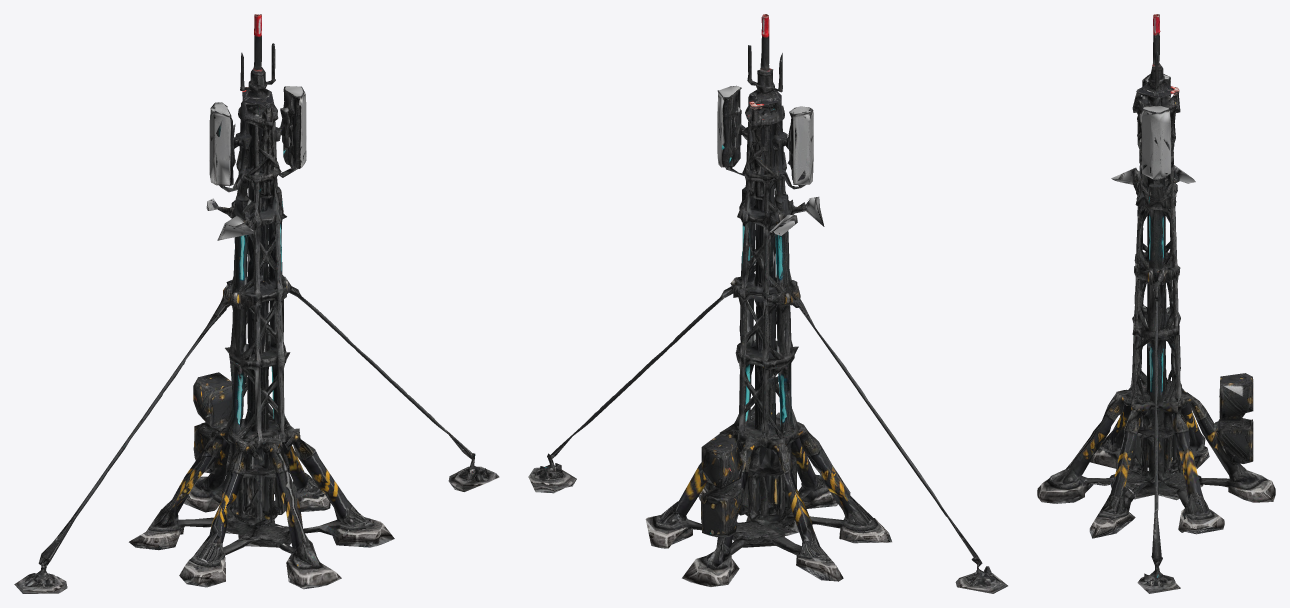
Rendered from neon_tower.glb.
3 views of the same model, side by side, from view 1: azimuth 30°, elevation 25°; view 2: azimuth 150°, elevation 25°; view 3: azimuth 270°, elevation 25° (orthographic). The views are drawn at different scales.
Visible parts, largest first — view 1: neon_tower; view 2: neon_tower; view 3: neon_tower.
Boxes of the visible parts, box(x1,y1,x2,y2) form: neon_tower: box(14, 14, 499, 593); neon_tower: box(528, 14, 1007, 593); neon_tower: box(1037, 14, 1275, 593).
Bounding box in the file's own units: 181 × 190 × 85.74.
1 material, 1 textured.
